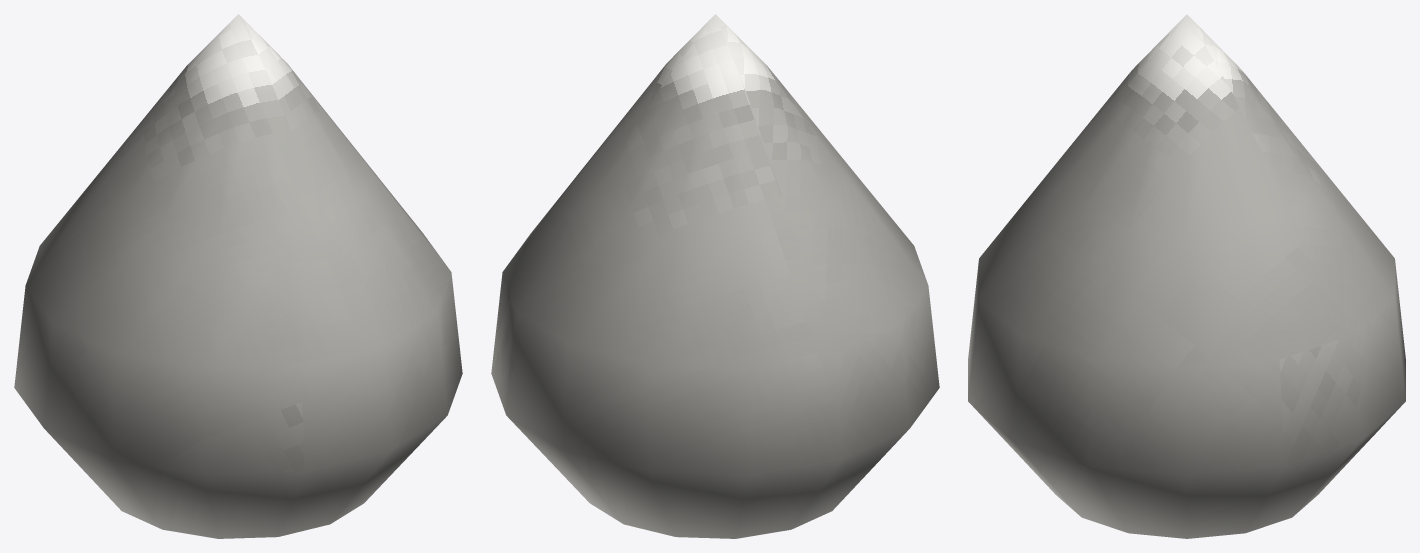
The model's file is pellet_milk.glb.
3 renders of one model, left to right at view 1: azimuth 30°, elevation 25°; view 2: azimuth 150°, elevation 25°; view 3: azimuth 270°, elevation 25°, orthographic.
Parts seen in each view (by area): view 1: prop_pellet_milk_felt; view 2: prop_pellet_milk_felt; view 3: prop_pellet_milk_felt.
Part boxes in pixels (<box>): prop_pellet_milk_felt: <box>14,14,462,538</box>; prop_pellet_milk_felt: <box>491,14,939,538</box>; prop_pellet_milk_felt: <box>968,14,1405,538</box>.
Size of the model in its own units: 0.06 by 0.072 by 0.0585.
1 material, 1 textured.
